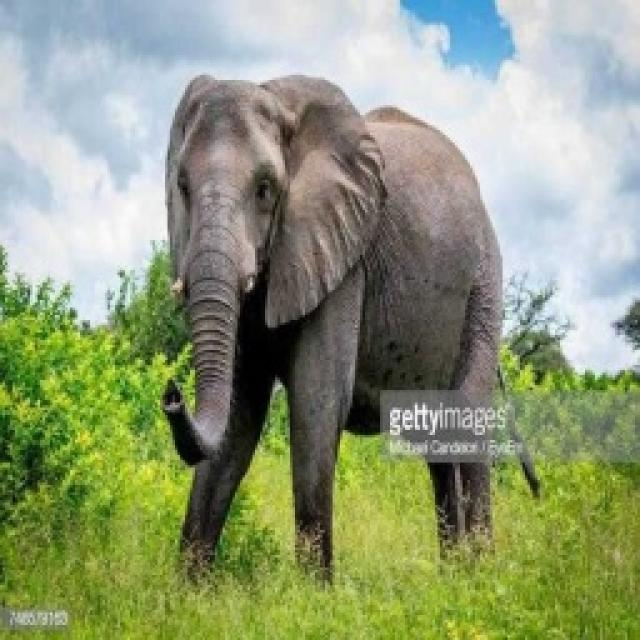not_pig: (158, 70, 540, 590)
